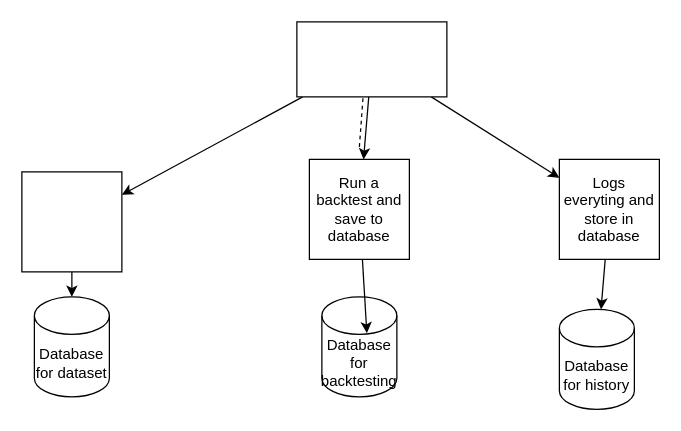
Image size: 681x431. Some labels were removed from this diagram. Each missing label, with the centre of its shape:
"Gather data and store to db" belongs at (71,221).
"Main program" belongs at (371,59).
